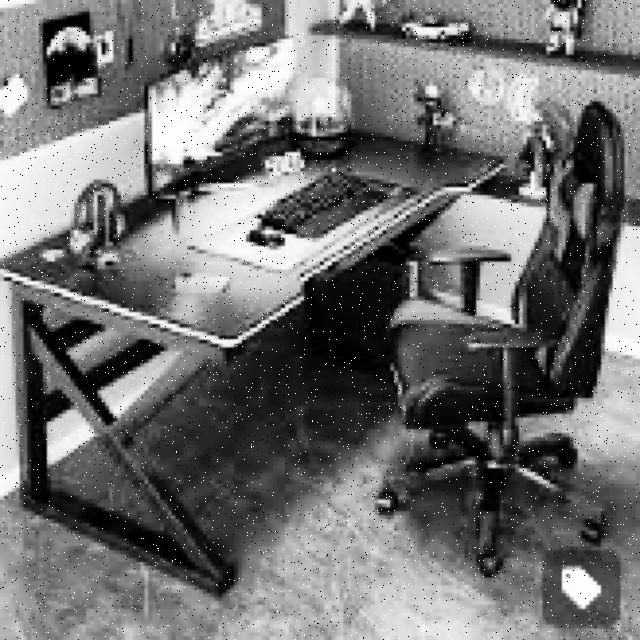book: (375, 97, 628, 574)
table: (0, 129, 511, 593)
